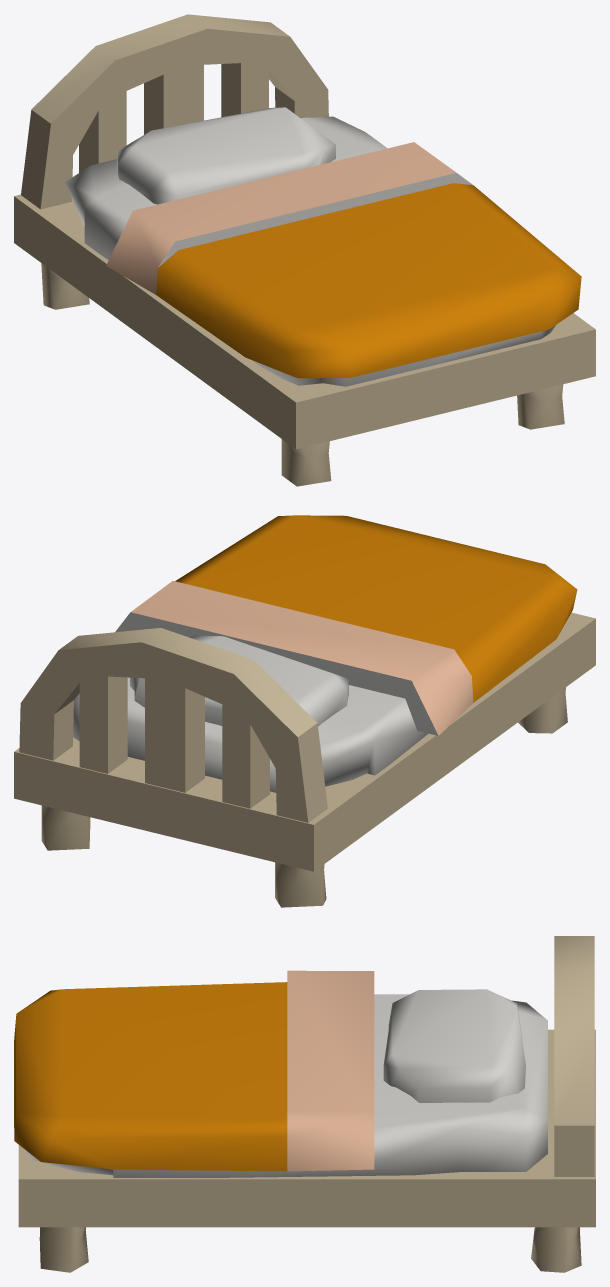
Rendered from cartoon bed 03_LOD2.fbx.
3 views of the same model, one above another, from view 1: azimuth 30°, elevation 25°; view 2: azimuth 150°, elevation 25°; view 3: azimuth 270°, elevation 25° (orthographic). The views are drawn at different scales.
Parts seen in each view (by area): view 1: cartoon_bed_003; view 2: cartoon_bed_003; view 3: cartoon_bed_003.
Boxes of the visible parts, left/top/right/bottom form: cartoon_bed_003: left=14, top=14, right=595, bottom=486; cartoon_bed_003: left=14, top=515, right=595, bottom=907; cartoon_bed_003: left=14, top=936, right=595, bottom=1272.
Size of the model in its own units: 4.89 by 3.3 by 7.17.
